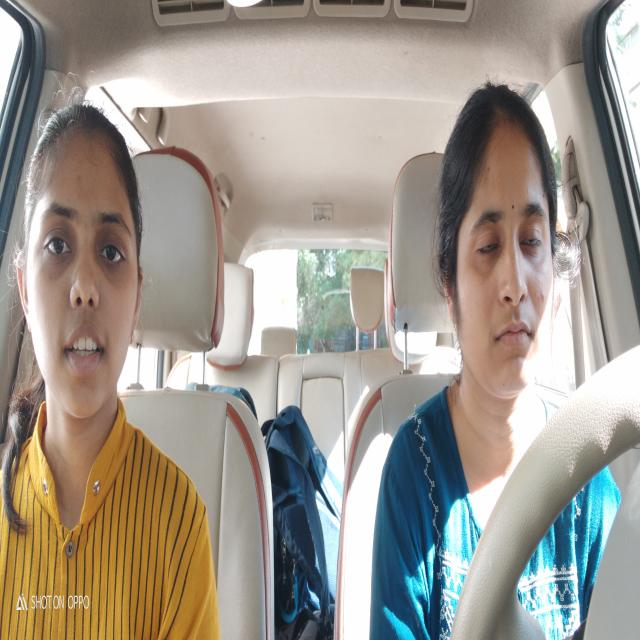drowsy: (425, 84, 576, 428)
person: (13, 81, 160, 443)
